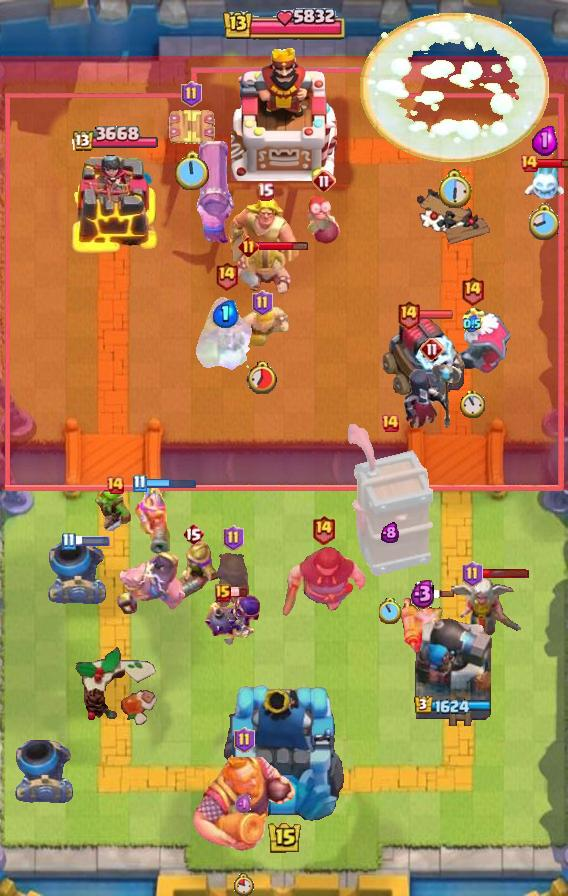archer: (235, 306, 289, 350)
barbarian-hut: (186, 293, 266, 373)
bat: (523, 165, 567, 203)
battle-healer: (191, 141, 237, 245)
bomb-tower: (164, 537, 222, 607), (214, 550, 252, 626), (132, 483, 170, 555)
clock: (221, 5, 347, 45)
dart-goblin: (345, 422, 435, 578)
electro-spirit: (532, 124, 558, 156), (410, 578, 436, 609), (213, 300, 239, 328), (381, 521, 399, 543), (235, 793, 253, 815), (463, 315, 481, 333)
elixir: (173, 151, 209, 193), (436, 169, 472, 209), (529, 203, 561, 242), (246, 360, 279, 394), (460, 390, 485, 418), (379, 598, 402, 624), (234, 872, 254, 896)
emote: (145, 478, 197, 491), (480, 568, 530, 580), (256, 241, 309, 252), (418, 308, 454, 319), (73, 536, 111, 546), (537, 157, 567, 169), (419, 589, 455, 599), (228, 586, 248, 597)
freeze: (114, 550, 188, 618)
giant-skeleton: (191, 751, 297, 853)
goblin-ball: (202, 593, 262, 649)
goblin-brawler: (166, 107, 216, 147)
goblin-giant: (231, 246, 293, 298)
goblin-hut: (227, 196, 303, 278)
golem: (381, 310, 467, 400)
ice-golem: (306, 195, 342, 247)
king-tower: (221, 682, 347, 826), (231, 45, 337, 181)
mortar-evolution: (431, 305, 513, 375)
musketeer: (48, 540, 108, 604), (15, 739, 75, 803)
phoenix-big: (360, 13, 548, 162)
poison: (440, 571, 528, 645)
queen-tower: (69, 154, 159, 256)
rascal-boy: (402, 360, 462, 432)
royal-hog: (280, 545, 366, 619)
selected: (70, 126, 158, 154), (414, 695, 492, 715)
text: (213, 261, 238, 292), (460, 275, 485, 306), (396, 298, 421, 329), (312, 515, 337, 546), (312, 169, 336, 193), (420, 337, 444, 361), (181, 81, 202, 107), (252, 290, 273, 316), (224, 525, 245, 551), (462, 561, 483, 587), (233, 727, 254, 753), (182, 522, 204, 546), (238, 236, 259, 257), (519, 153, 539, 173), (380, 413, 400, 433), (105, 475, 125, 495), (257, 183, 275, 202), (215, 584, 231, 602), (60, 533, 75, 552), (133, 475, 147, 494)
tombstone: (400, 596, 446, 658)
tower-bar: (410, 611, 496, 731)
zap: (91, 485, 139, 531)
